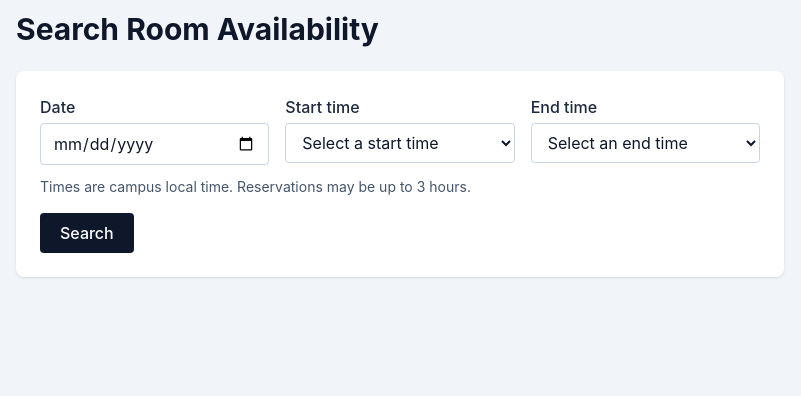
Test: RoomAvailabilityPage › reports an empty result as a message rather than an error
The image size is (801, 396).
Type "2026-10-21" into the date field labelled "Date". click: (155, 144)
box: [40,123,269,165]
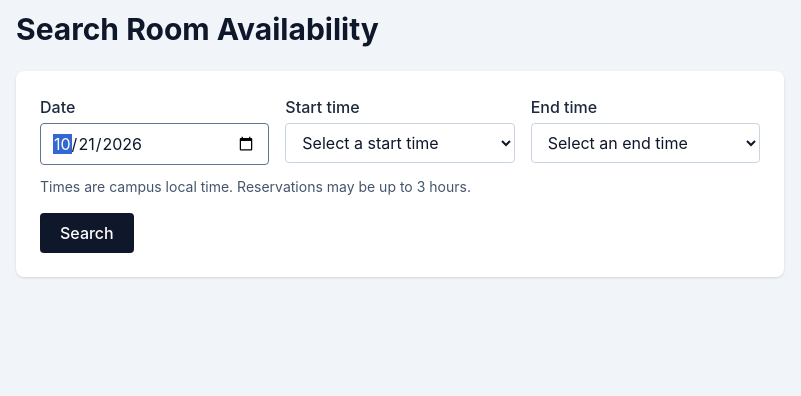
Select "2:00 PM" in the dropdown labelled "Start time". click: (400, 143)
box: [285,123,515,163]
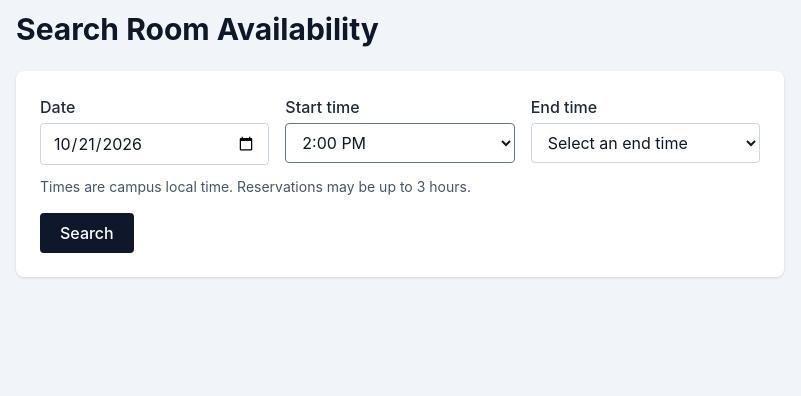
Select "4:00 PM" in the dropdown labelled "End time". click: (645, 143)
box: [531,123,760,163]
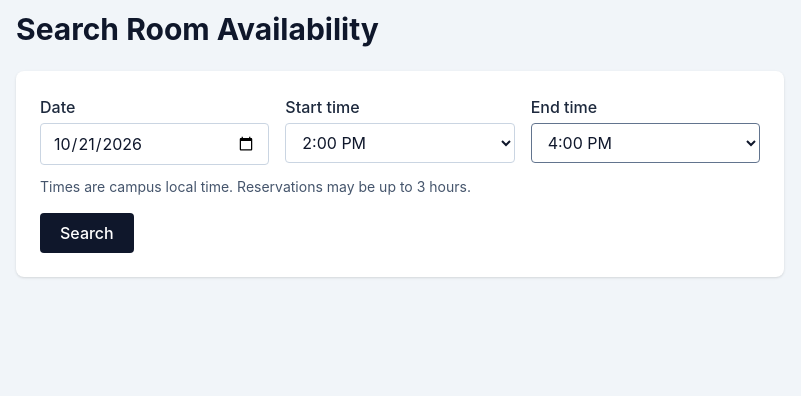
Click the button "Search". click: (87, 233)
box: [40,213,134,253]
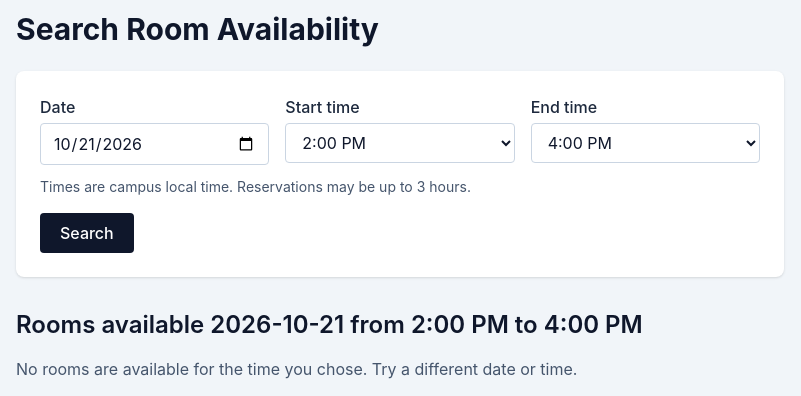
expect the text "No rooms are available" is shown: met, box [16,359,577,379]
